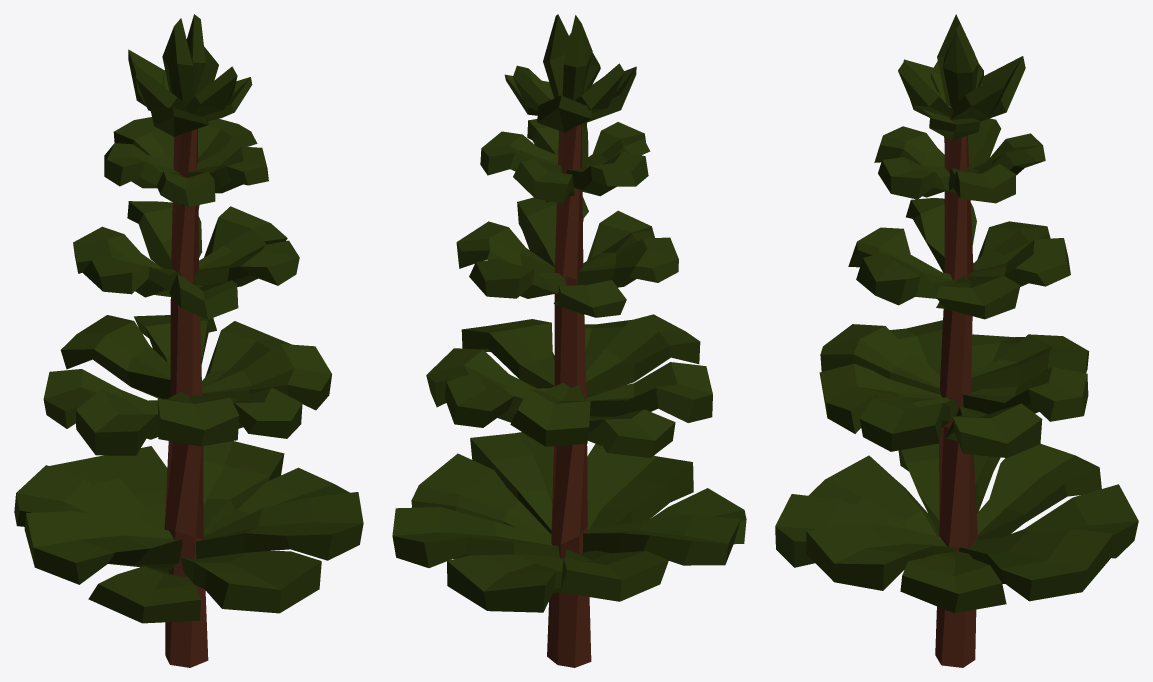
Rendered from Tree_6_High.fbx.
3 renders of one model, left to right at view 1: azimuth 30°, elevation 25°; view 2: azimuth 150°, elevation 25°; view 3: azimuth 270°, elevation 25°, orthographic.
Visible parts, largest first — view 1: Tree_6_High; view 2: Tree_6_High; view 3: Tree_6_High.
Part boxes in pixels (x1,y1,x2,y2): Tree_6_High: (14, 14, 363, 667); Tree_6_High: (392, 14, 746, 667); Tree_6_High: (775, 14, 1138, 667).
Bounding box in the file's own units: 129 × 260 × 133.
